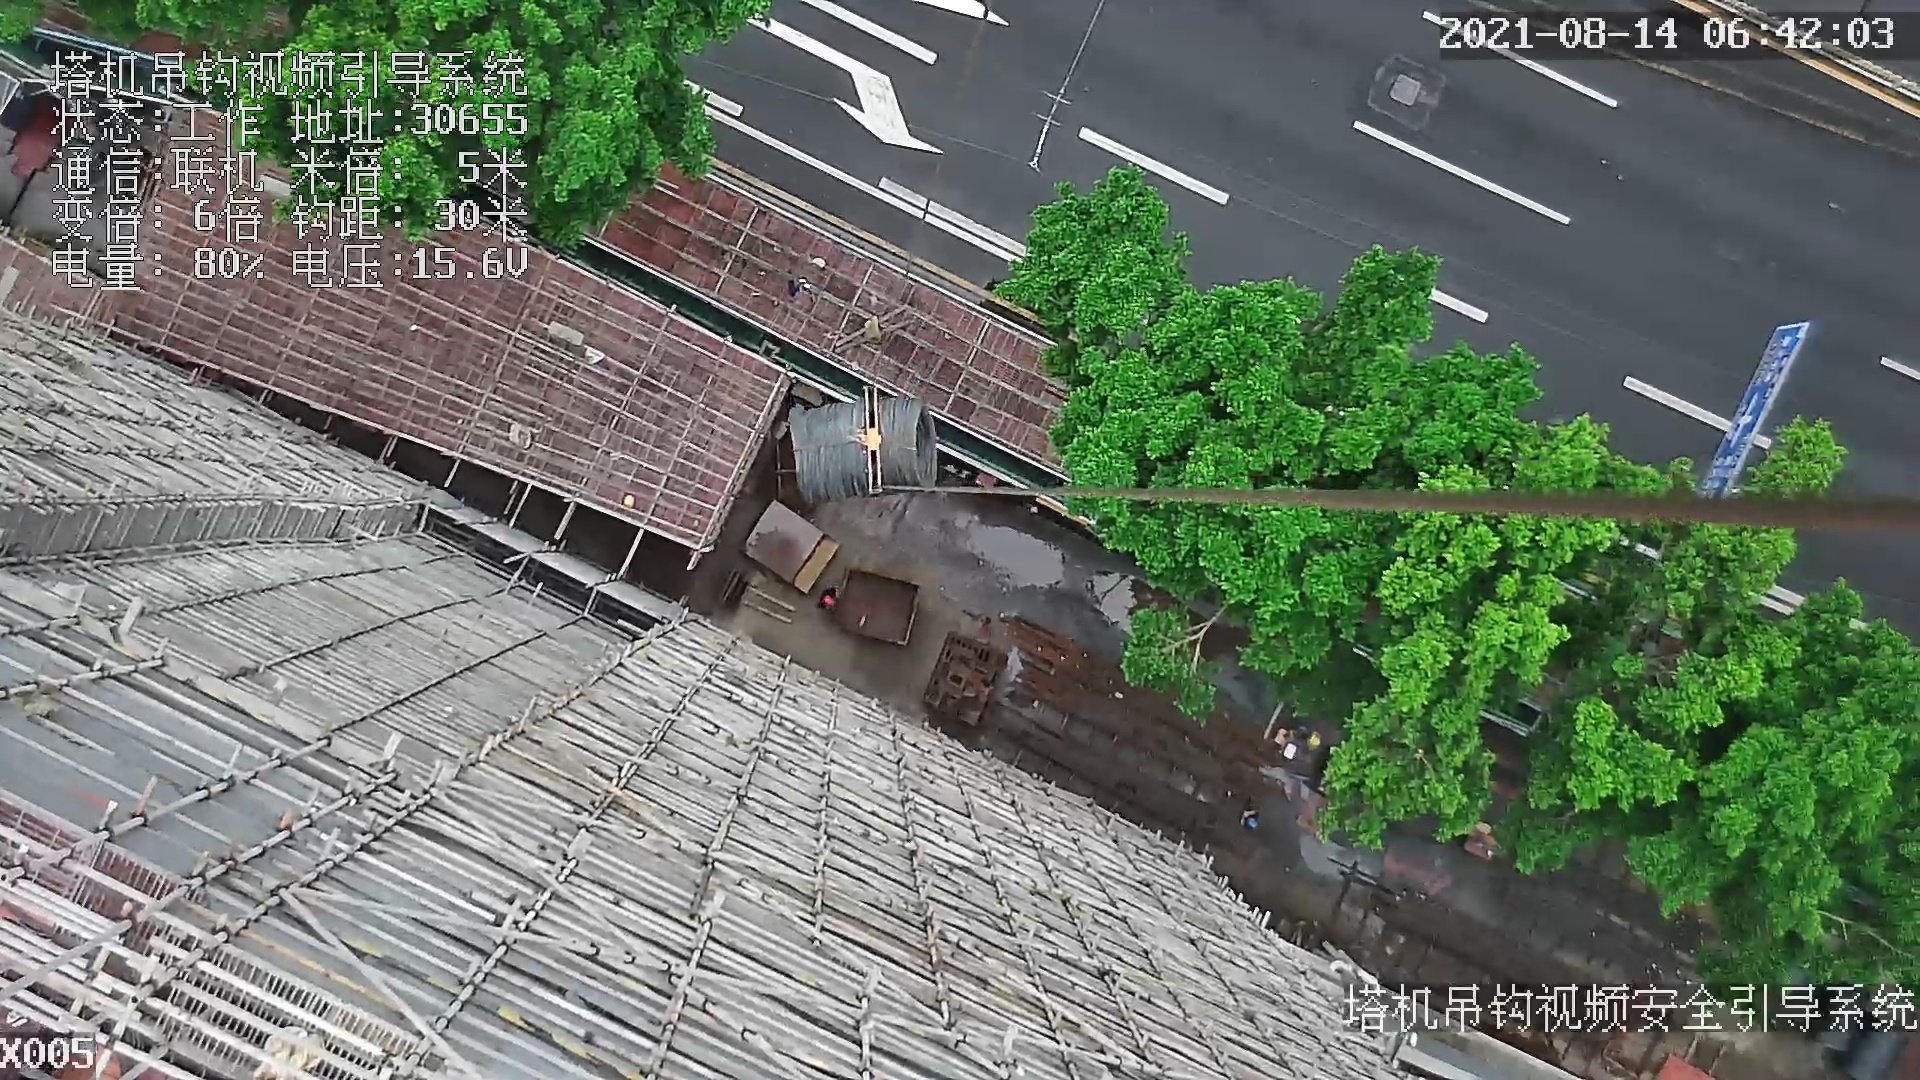hook: (845, 378, 888, 494)
person: (816, 583, 842, 614), (1237, 799, 1259, 833)
